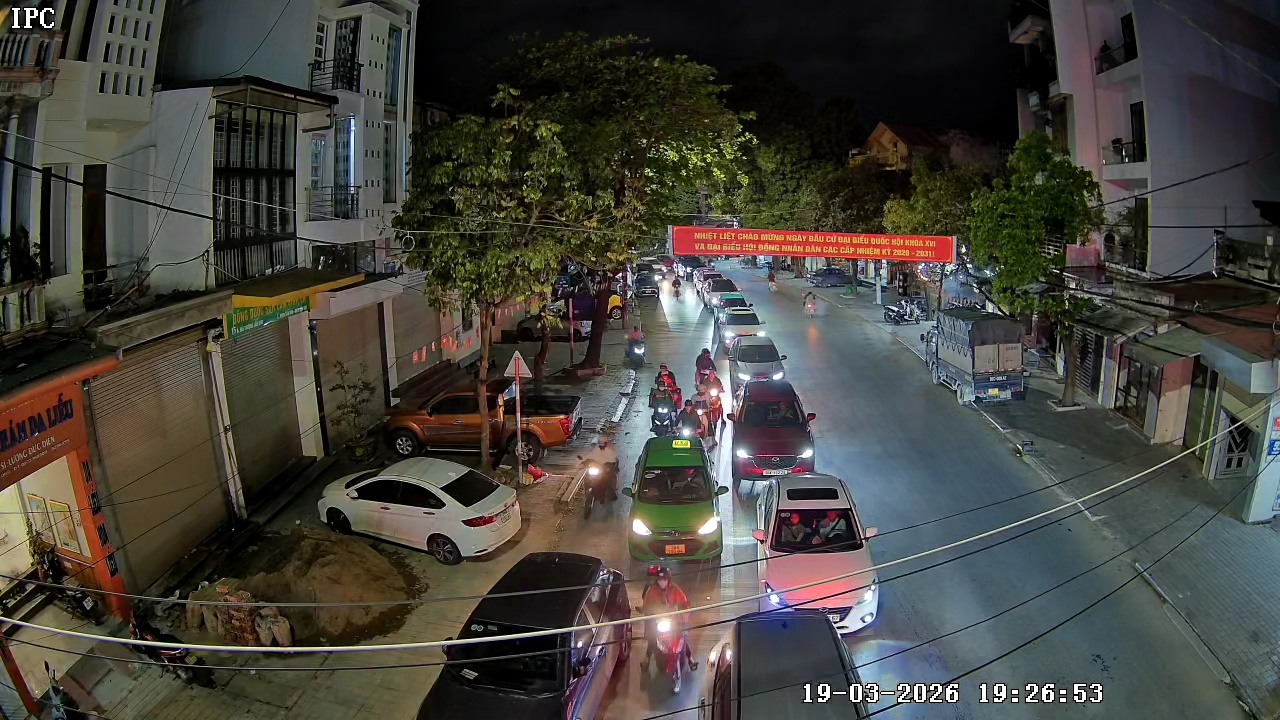car: (413, 549, 676, 719), (318, 455, 526, 561), (624, 434, 729, 565), (727, 377, 819, 501), (751, 469, 870, 561), (728, 332, 791, 406), (715, 303, 763, 355)
motorbike: (641, 569, 703, 699), (647, 376, 681, 436), (623, 324, 648, 369), (670, 273, 685, 306)
